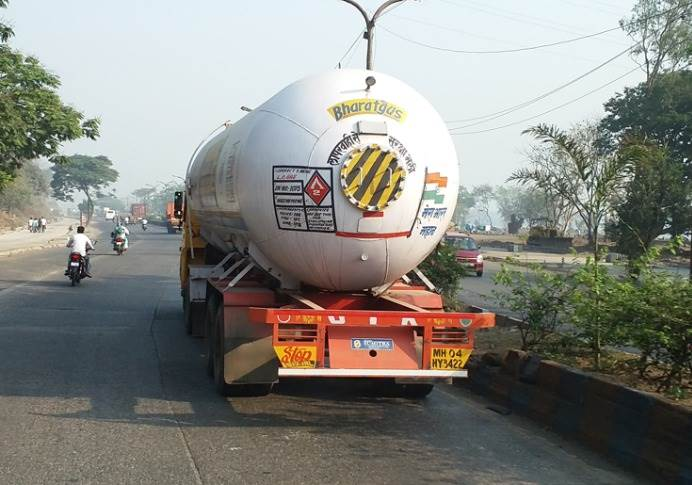bike: (67, 229, 88, 288), (112, 226, 128, 255), (141, 217, 148, 233)
car: (444, 232, 484, 279), (105, 210, 114, 222)
truck: (187, 73, 477, 398), (167, 204, 183, 233), (132, 205, 148, 223)
